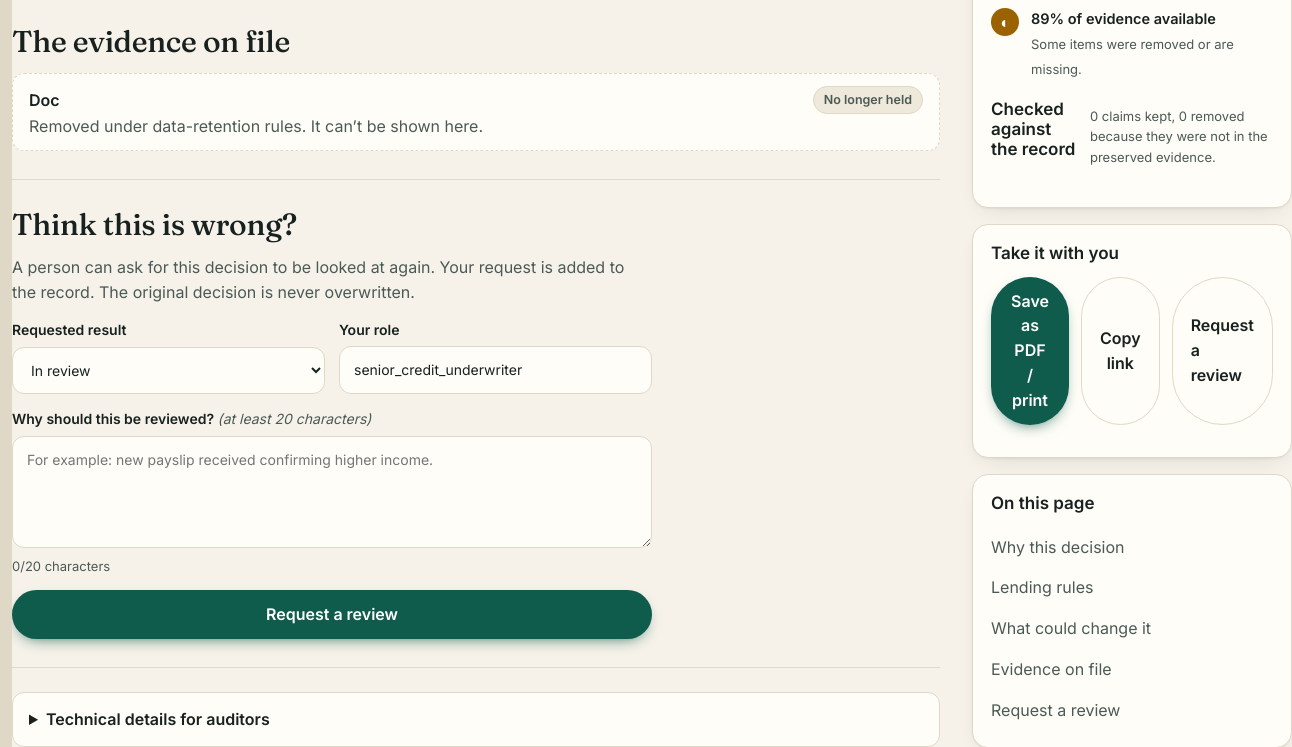
it: DecisionTrace customer experience › review request needs 20+ characters, then submits
The width and height of the screenshot is (1292, 747).
(page scrolled)
Type "too short" into the text box labelled "Why should this be reviewed? (at least 20 characters)".
click(332, 492); type("too short")  # box [12,436,652,548]
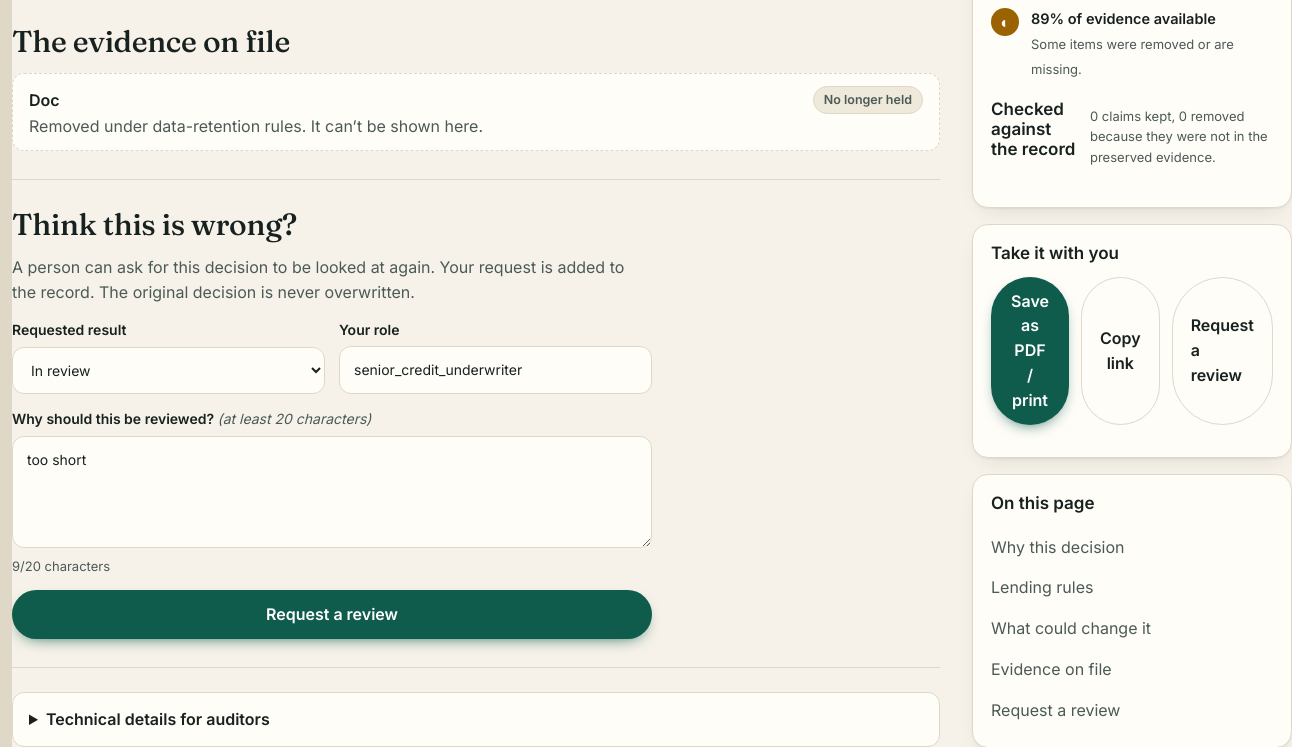
Click the button with test id "review-submit".
click(332, 615)  # box [12,590,652,639]
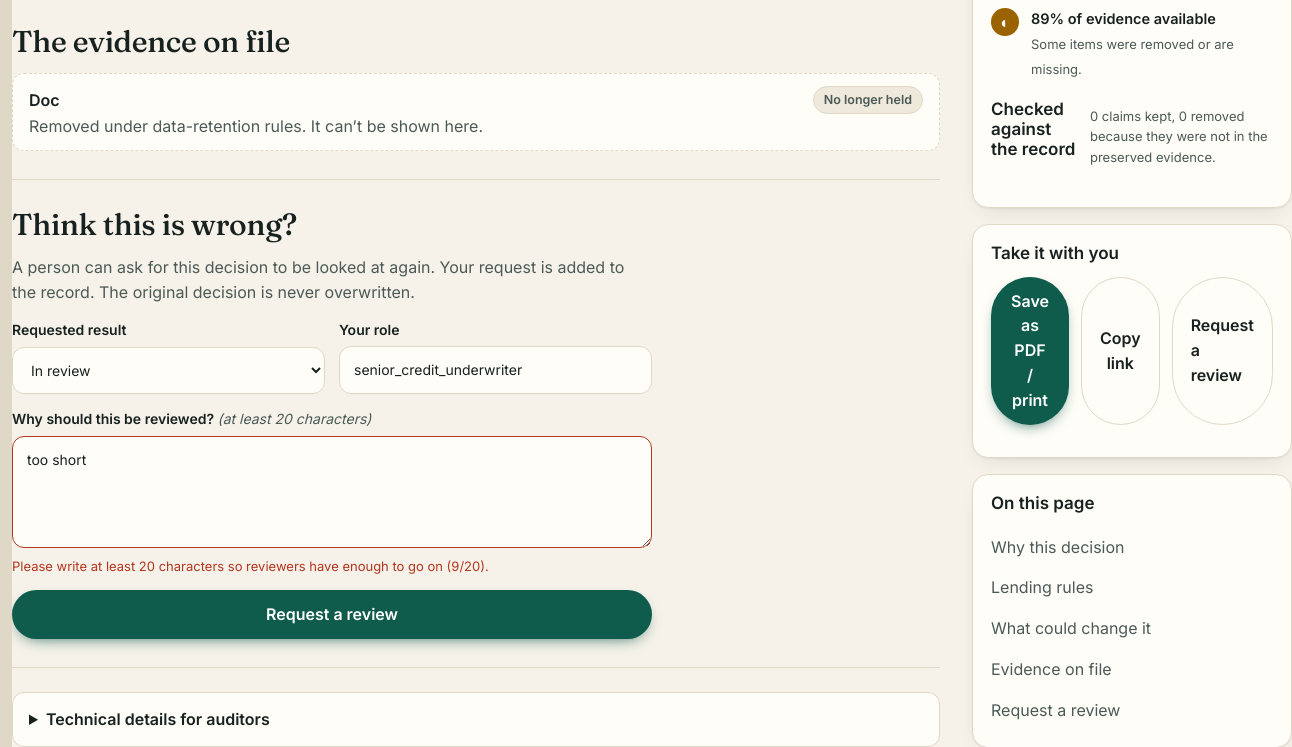
expect the text with test id "review-help" shows "at least 20 characters": met, box [12,558,489,574]
Replace the text in the text box labelled "Why should this be reviewed? (at least 20 characters)" with "Verified secondary audited tax return confirming sufficient net income." at (332, 492), box [12,436,652,548]
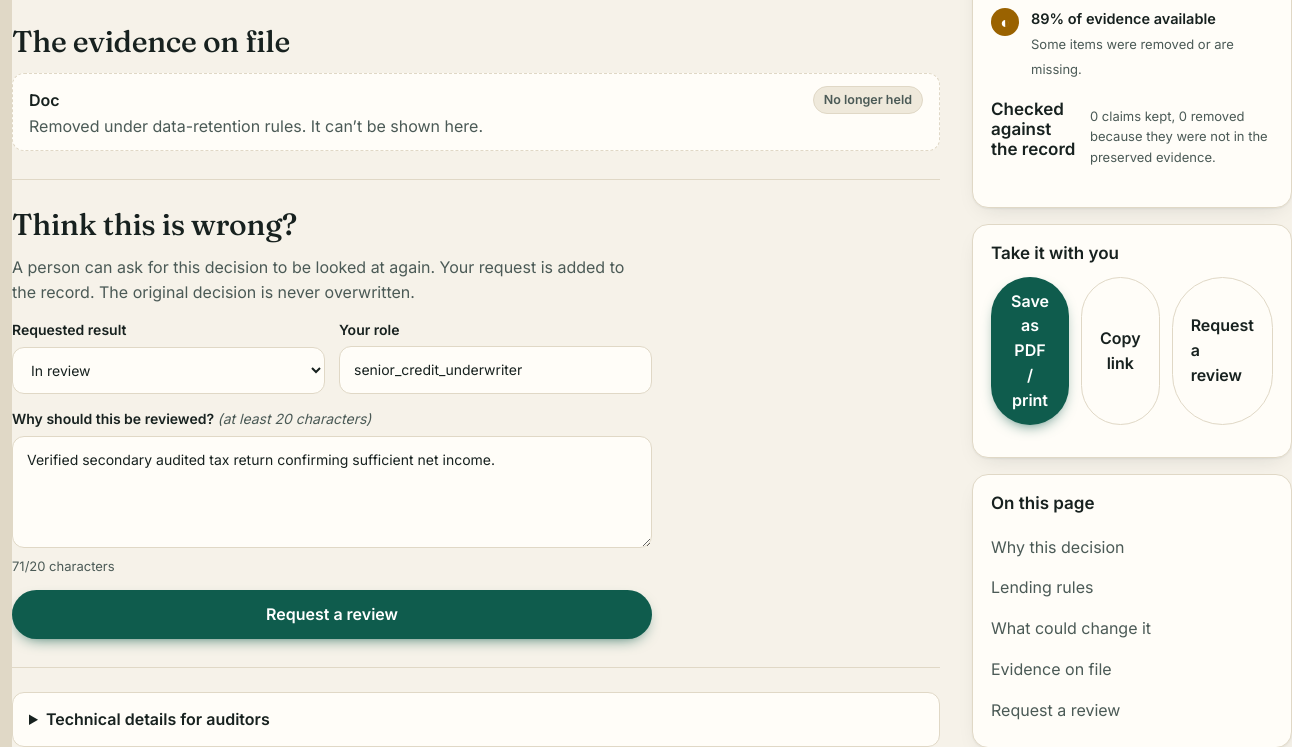
Click the button with test id "review-submit".
click(332, 615)  # box [12,590,652,639]
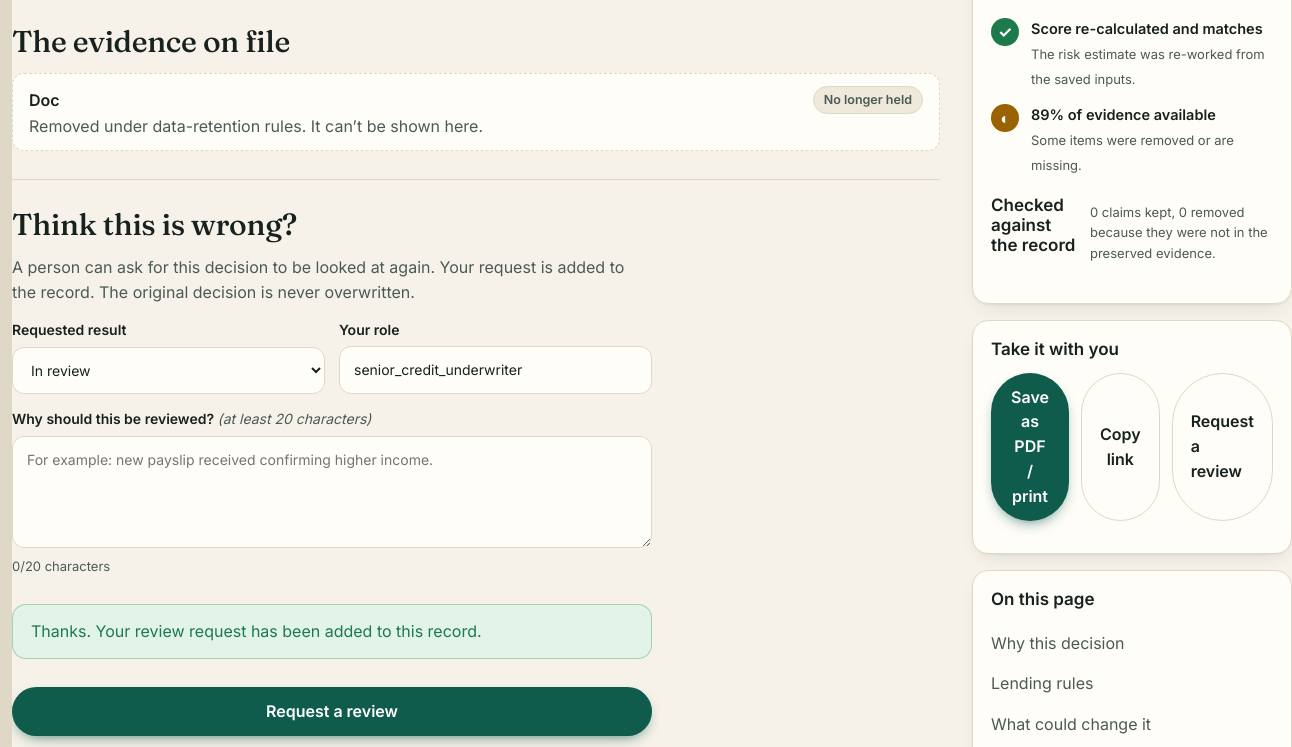
expect the text "Thanks. Your review request has been added to this record." is shown: met, box [12,604,652,659]
